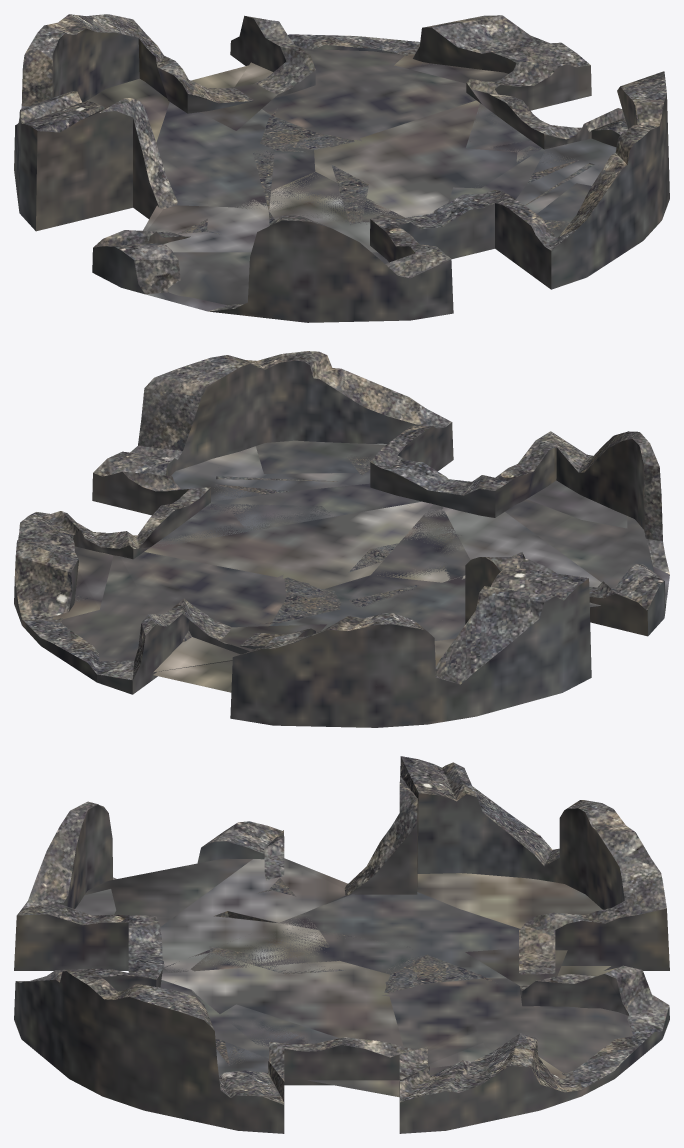
Rendered from Tower_base_root.fbx.
3 renders of one model, top to bottom at view 1: azimuth 30°, elevation 25°; view 2: azimuth 150°, elevation 25°; view 3: azimuth 270°, elevation 25°, orthographic. The views are drawn at different scales.
Visible parts, largest first — view 1: Tower_base_sh_46, Tower_base_sh_49, Tower_base_sh_42, Tower_base_sh_34, Tower_base_sh_9, Tower_base_sh_47, Tower_base_sh_36, Tower_base_sh_35, Tower_base_sh_17, Tower_base_sh_15, Tower_base_sh_3, Tower_base_sh_13 (+26 smaller); view 2: Tower_base_sh_32, Tower_base_sh_42, Tower_base_sh_54, Tower_base_sh_38, Tower_base_sh_9, Tower_base_sh_17, Tower_base_sh_34, Tower_base_sh_3, Tower_base_sh_36, Tower_base_sh_13, Tower_base_sh_5, Tower_base_sh_46 (+32 smaller); view 3: Tower_base_sh_42, Tower_base_sh_38, Tower_base_sh_46, Tower_base_sh_15, Tower_base_sh_36, Tower_base_sh_3, Tower_base_sh_17, Tower_base_sh_49, Tower_base_sh_13, Tower_base_sh_9, Tower_base_sh_54, Tower_base_sh_18 (+26 smaller).
Boxes of the visible parts, <box> form: Tower_base_sh_46: <box>18,91,177,230</box>; Tower_base_sh_49: <box>318,223,453,322</box>; Tower_base_sh_42: <box>47,14,243,113</box>; Tower_base_sh_34: <box>370,191,575,287</box>; Tower_base_sh_9: <box>343,79,533,152</box>; Tower_base_sh_47: <box>423,26,591,110</box>; Tower_base_sh_36: <box>567,145,669,281</box>; Tower_base_sh_35: <box>216,215,326,322</box>; Tower_base_sh_17: <box>308,141,517,189</box>; Tower_base_sh_15: <box>86,78,268,159</box>; Tower_base_sh_3: <box>252,150,368,229</box>; Tower_base_sh_13: <box>291,47,422,108</box>; Tower_base_sh_32: <box>368,595,556,727</box>; Tower_base_sh_42: <box>250,613,391,727</box>; Tower_base_sh_54: <box>172,351,354,456</box>; Tower_base_sh_38: <box>92,371,219,515</box>; Tower_base_sh_9: <box>129,509,283,599</box>; Tower_base_sh_17: <box>230,493,369,589</box>; Tower_base_sh_34: <box>376,410,532,517</box>; Tower_base_sh_3: <box>333,532,523,607</box>; Tower_base_sh_36: <box>256,353,418,445</box>; Tower_base_sh_13: <box>55,586,244,661</box>; Tower_base_sh_5: <box>521,510,653,573</box>; Tower_base_sh_46: <box>465,557,590,696</box>; Tower_base_sh_42: <box>519,808,663,975</box>; Tower_base_sh_38: <box>135,1012,301,1133</box>; Tower_base_sh_46: <box>344,765,491,895</box>; Tower_base_sh_15: <box>412,881,602,974</box>; Tower_base_sh_36: <box>19,971,140,1109</box>; Tower_base_sh_3: <box>206,916,412,974</box>; Tower_base_sh_17: <box>210,970,386,1043</box>; Tower_base_sh_49: <box>14,816,102,970</box>; Tower_base_sh_13: <box>464,991,633,1077</box>; Tower_base_sh_9: <box>283,995,485,1055</box>; Tower_base_sh_54: <box>65,971,208,1077</box>; Tower_base_sh_18: <box>269,868,497,927</box>.
Bounding box in the file's own units: 96.81 × 17.51 × 96.81.
2 materials, 2 textured.
